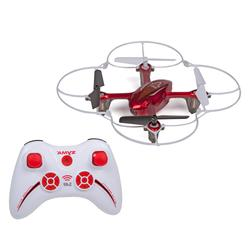drone: (55, 40, 242, 145)
